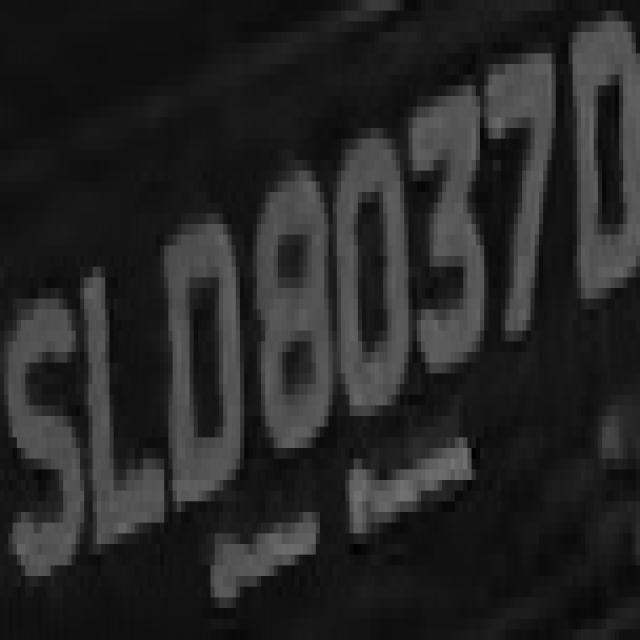0: (332, 107, 417, 448)
3: (404, 64, 484, 395)
7: (472, 32, 552, 373)
8: (248, 149, 332, 502)
D: (156, 203, 248, 565), (564, 0, 640, 309)
L: (76, 235, 177, 565)
S: (9, 267, 84, 597)
